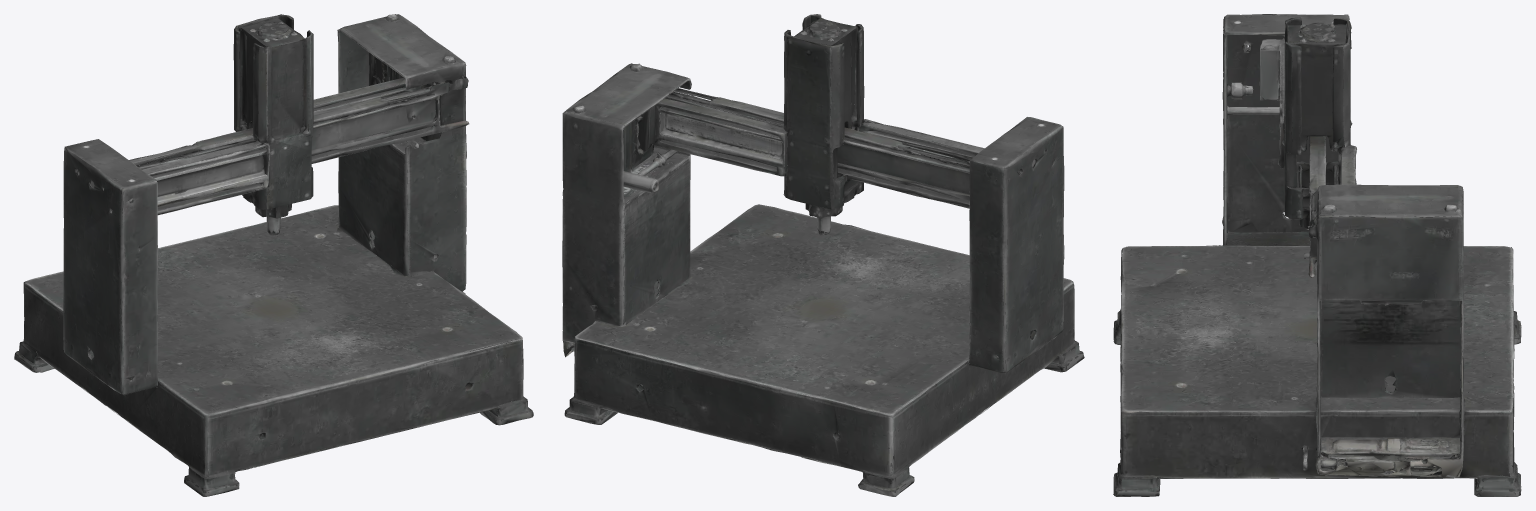
File: prop-forge.glb
3 views of the same model, side by side, from view 1: azimuth 30°, elevation 25°; view 2: azimuth 150°, elevation 25°; view 3: azimuth 270°, elevation 25° (orthographic). The views are drawn at different scales.
Visible parts, largest first — view 1: Mesh_0; view 2: Mesh_0; view 3: Mesh_0.
Boxes of the visible parts, bbox=[...] form: Mesh_0: bbox=[14, 14, 533, 496]; Mesh_0: bbox=[562, 14, 1084, 496]; Mesh_0: bbox=[1113, 14, 1521, 496].
Size of the model in its own units: 1 by 0.8768 by 0.8474.
Materials: 1 (1 with a texture image).
